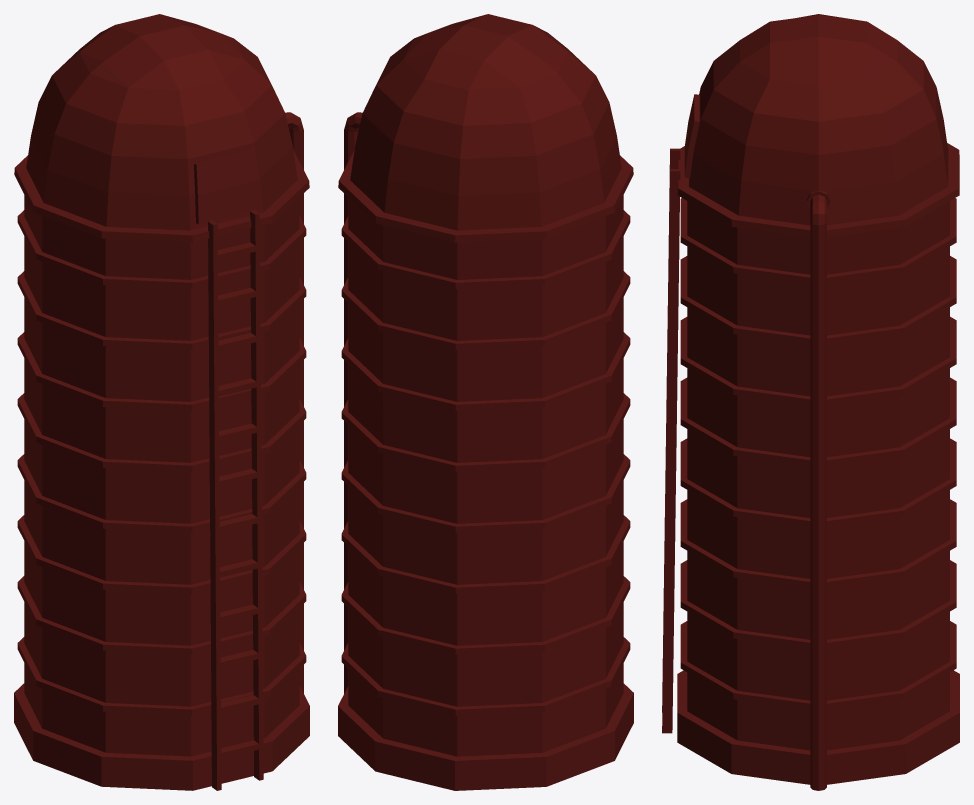
File: farm.silo.t1.glb
3 renders of one model, left to right at view 1: azimuth 30°, elevation 25°; view 2: azimuth 150°, elevation 25°; view 3: azimuth 270°, elevation 25°, orthographic.
Bounding box in the file's own units: 0.4044 × 1 × 0.387.
